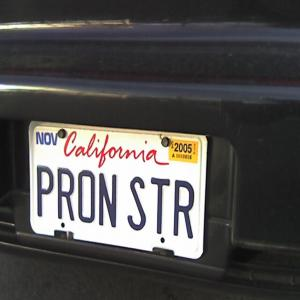Vehicle-registration-plate: (28, 119, 210, 260)
